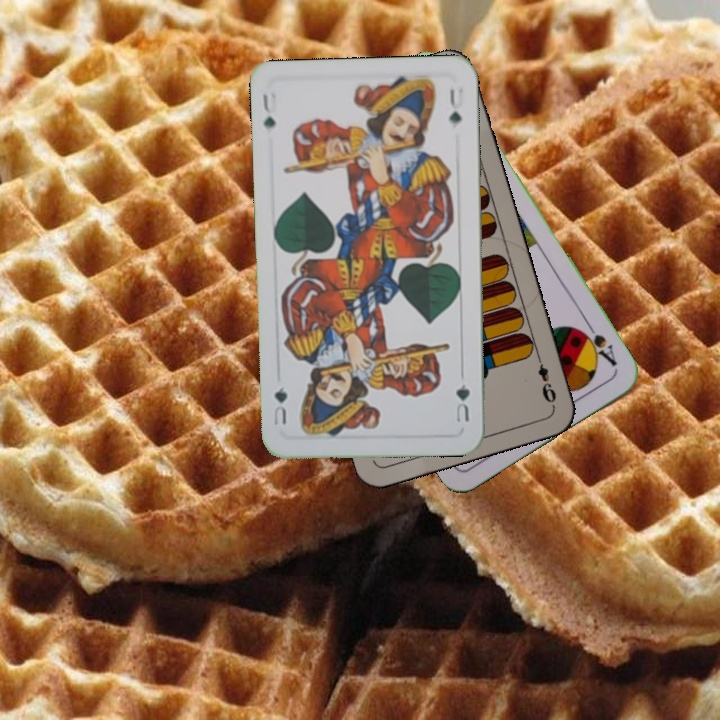E9: (533, 351, 559, 409)
GU: (258, 87, 280, 132), (452, 379, 472, 425)
SA: (575, 318, 620, 369)
